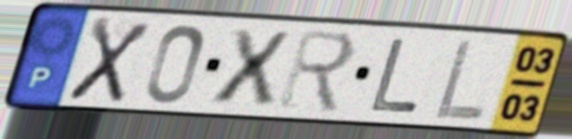0: (144, 21, 208, 106)
L: (430, 36, 489, 123), (366, 36, 423, 116)
R: (275, 26, 360, 117)
X: (63, 14, 155, 106), (207, 26, 295, 107)
